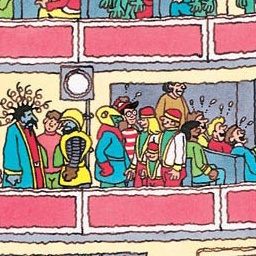waldo: (116, 97, 139, 159), (115, 100, 138, 128)
